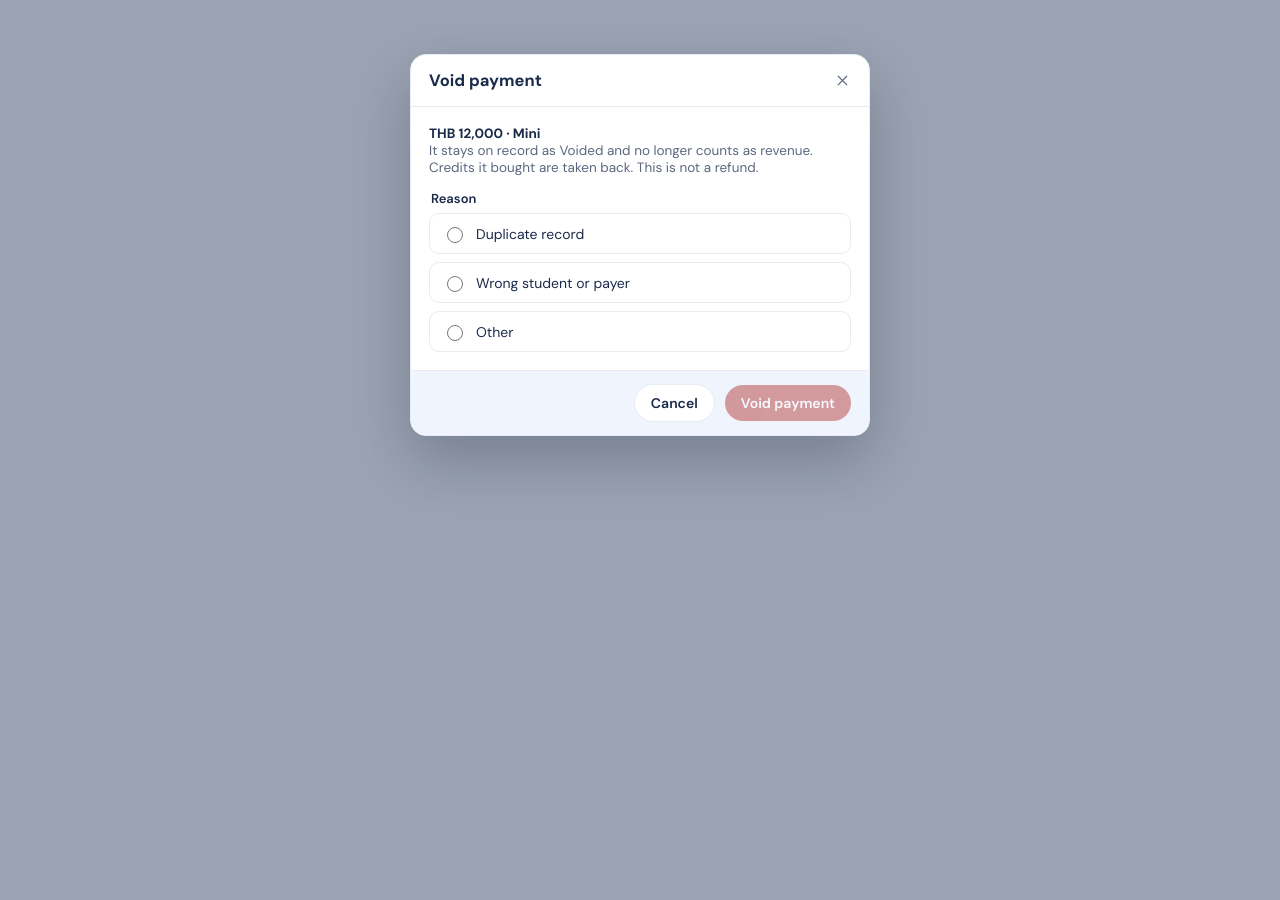
the Void payment dialog › cannot be confirmed until a reason is chosen
Check: the button "Void payment" is disabled, box left=725, top=385, right=851, bottom=421
Click the radio button labelled "Duplicate record" at (455, 235), box left=447, top=227, right=463, bottom=243
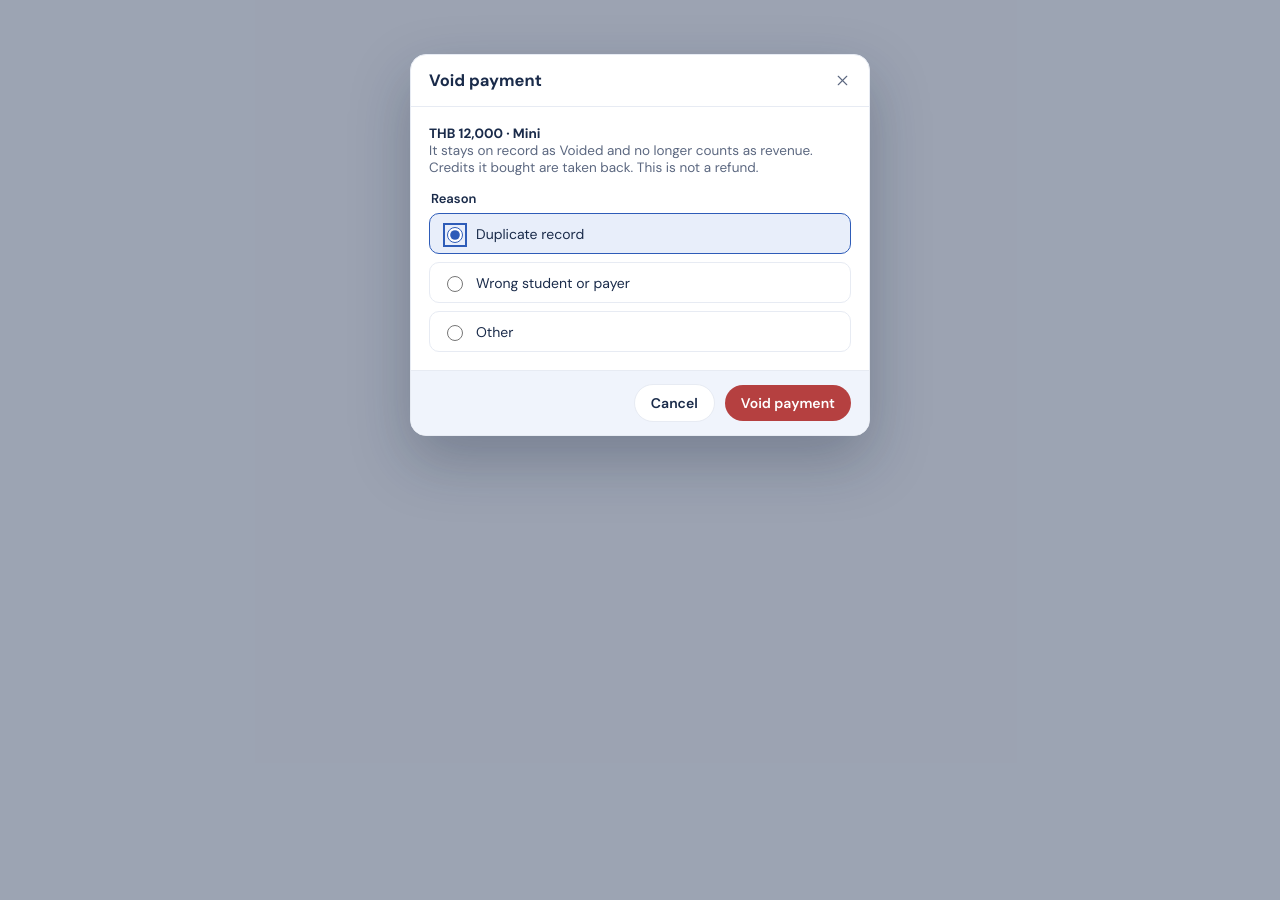
Check: the button "Void payment" is enabled, box left=725, top=385, right=851, bottom=421
